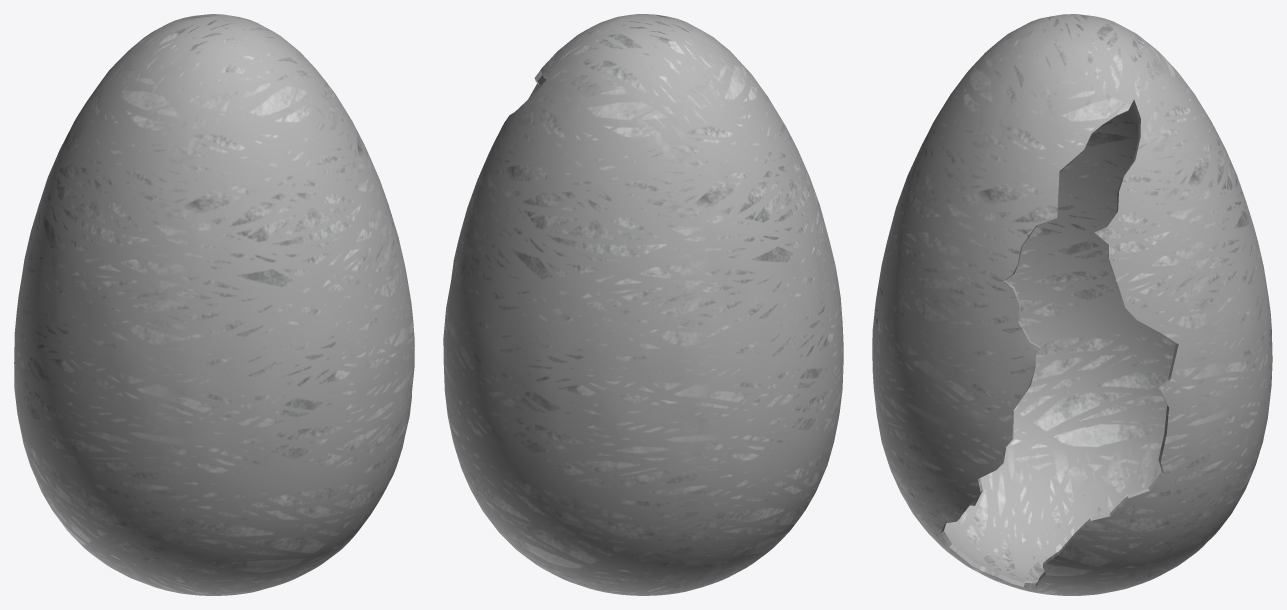
The model's file is Cacoon.fbx.
3 views of the same model, side by side, from view 1: azimuth 30°, elevation 25°; view 2: azimuth 150°, elevation 25°; view 3: azimuth 270°, elevation 25° (orthographic).
Visible parts, largest first — view 1: Cacoon; view 2: Cacoon; view 3: Cacoon.
Part boxes in pixels (left/top/right/bottom): Cacoon: left=14, top=14, right=414, bottom=595; Cacoon: left=443, top=14, right=843, bottom=595; Cacoon: left=872, top=14, right=1272, bottom=595.
Size of the model in its own units: 105 by 162 by 107.
